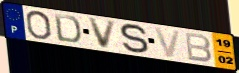B: (183, 32, 213, 64)
D: (53, 12, 83, 45)
O: (24, 10, 53, 41)
S: (119, 23, 151, 55)
V: (152, 26, 183, 59), (88, 17, 119, 50)
